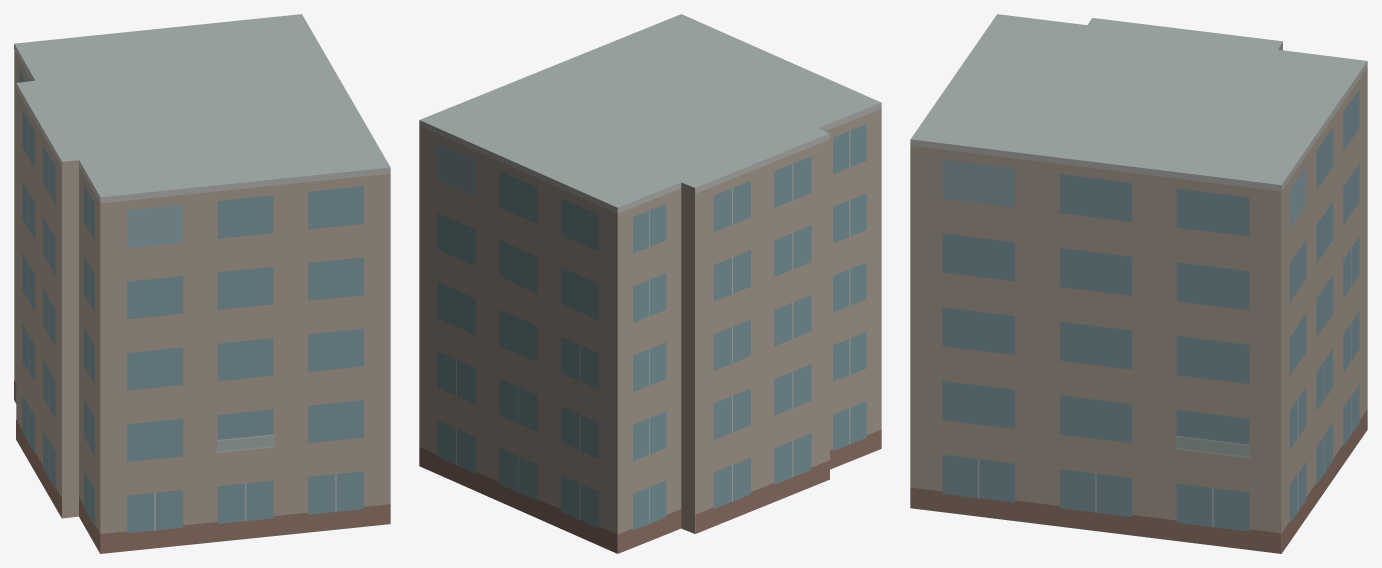
The model's file is survey-upis-33005486.glb.
The picture shows the model from 3 angles, left to right: view 1: azimuth 30°, elevation 25°; view 2: azimuth 150°, elevation 25°; view 3: azimuth 270°, elevation 25°; orthographic projection. The views are drawn at different scales.
Visible parts, largest first — view 1: survey-upis-33005486.tmp; view 2: survey-upis-33005486.tmp; view 3: survey-upis-33005486.tmp.
Part boxes in pixels (x1=…): survey-upis-33005486.tmp: x1=14, y1=14, x2=390, y2=553; survey-upis-33005486.tmp: x1=419, y1=14, x2=881, y2=553; survey-upis-33005486.tmp: x1=910, y1=14, x2=1367, y2=553.
Size of the model in its own units: 14.13 by 14.2 by 15.96.
